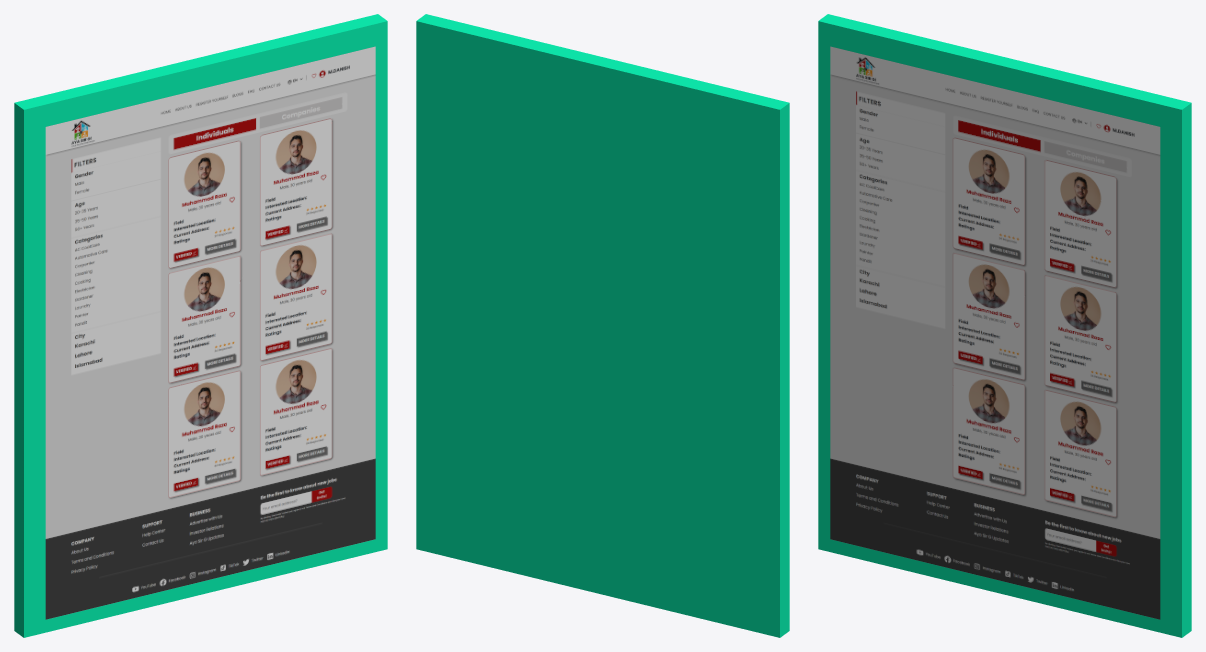
3 renders of one model, left to right at view 1: azimuth 30°, elevation 25°; view 2: azimuth 150°, elevation 25°; view 3: azimuth 330°, elevation 25°, orthographic.
Parts seen in each view (by area): view 1: PhotoPlane, PhotoBorder; view 2: PhotoBorder; view 3: PhotoPlane, PhotoBorder.
Boxes of the visible parts, left/top/right/bottom form: PhotoPlane: left=45, top=46, right=375, bottom=619; PhotoBorder: left=14, top=14, right=387, bottom=637; PhotoBorder: left=416, top=14, right=789, bottom=637; PhotoPlane: left=830, top=46, right=1160, bottom=619; PhotoBorder: left=818, top=14, right=1191, bottom=637.
Bounding box in the file's own units: 10.81 × 15 × 0.75.
2 materials, 1 textured.
